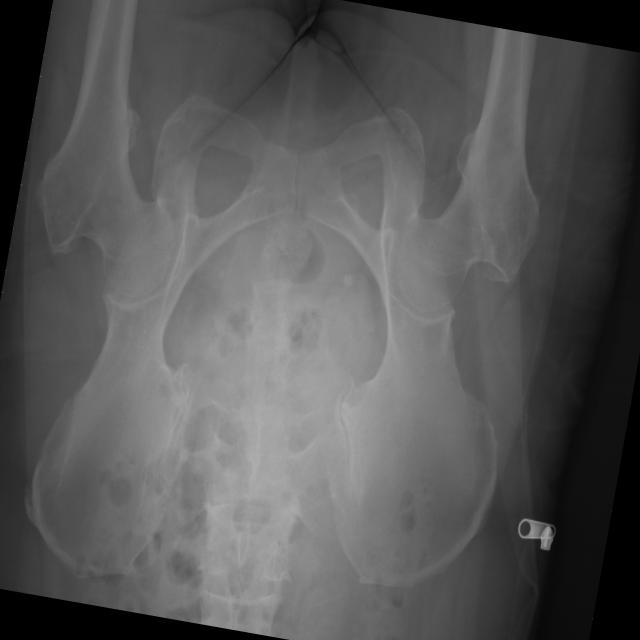normal-left: (41, 0, 173, 296)
normal-right: (396, 25, 538, 310)
